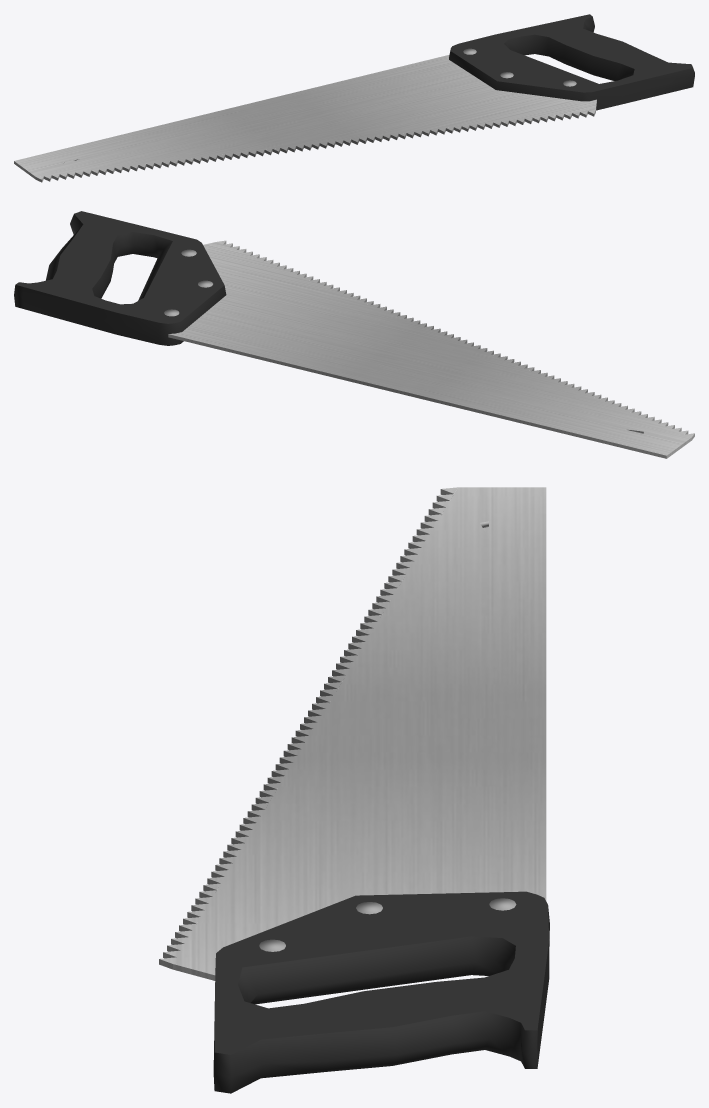
File: scie-egoine.glb
The picture shows the model from 3 angles, top to bottom: view 1: azimuth 30°, elevation 25°; view 2: azimuth 150°, elevation 25°; view 3: azimuth 270°, elevation 25°; orthographic projection. The views are drawn at different scales.
Bounding box in the file's own units: 61.56 × 2.02 × 17.3.
Materials: 3 (1 with a texture image).
